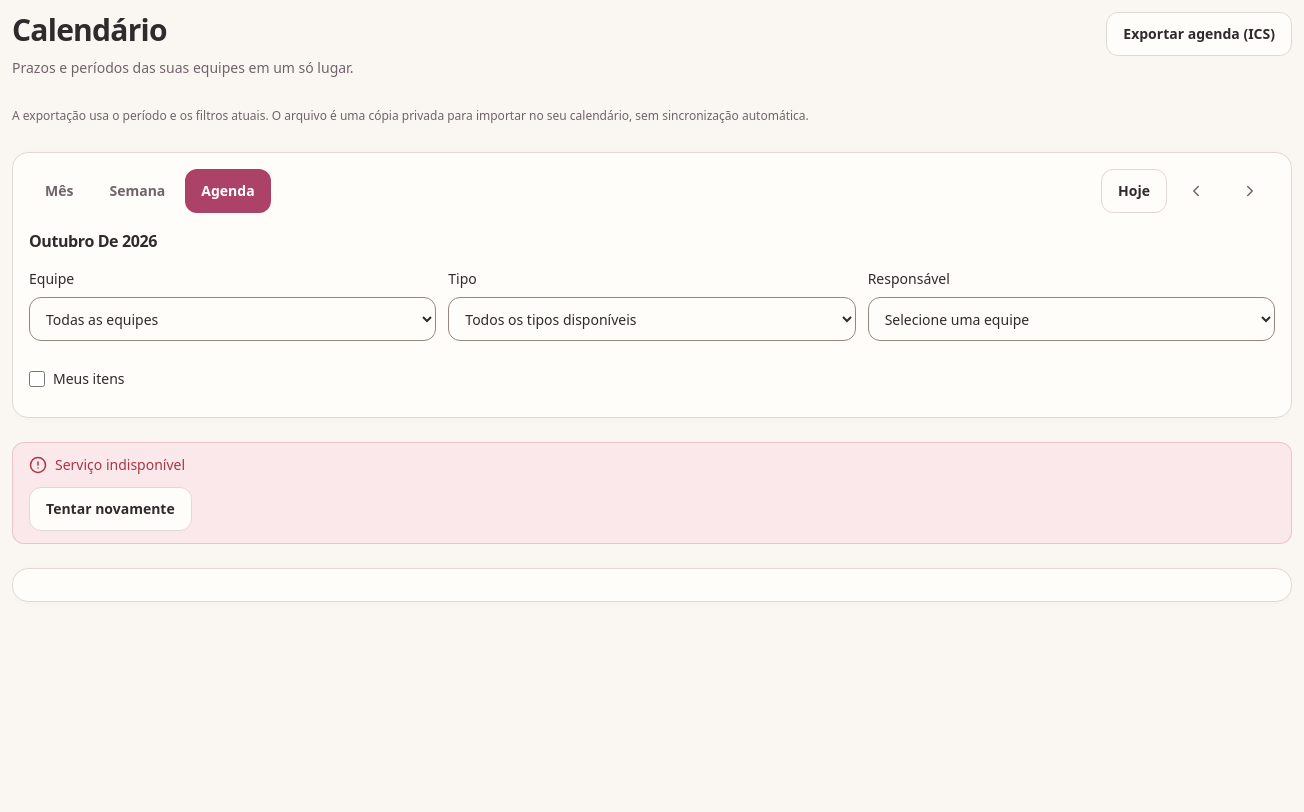
Test: erro seguro preserva controles e permite retry
The width and height of the screenshot is (1304, 812).
expect the message "Serviço indisponível Tentar novamente" is shown: met, box left=12, top=442, right=1292, bottom=544
Click the button "Tentar novamente" at (110, 509), box left=29, top=487, right=192, bottom=531
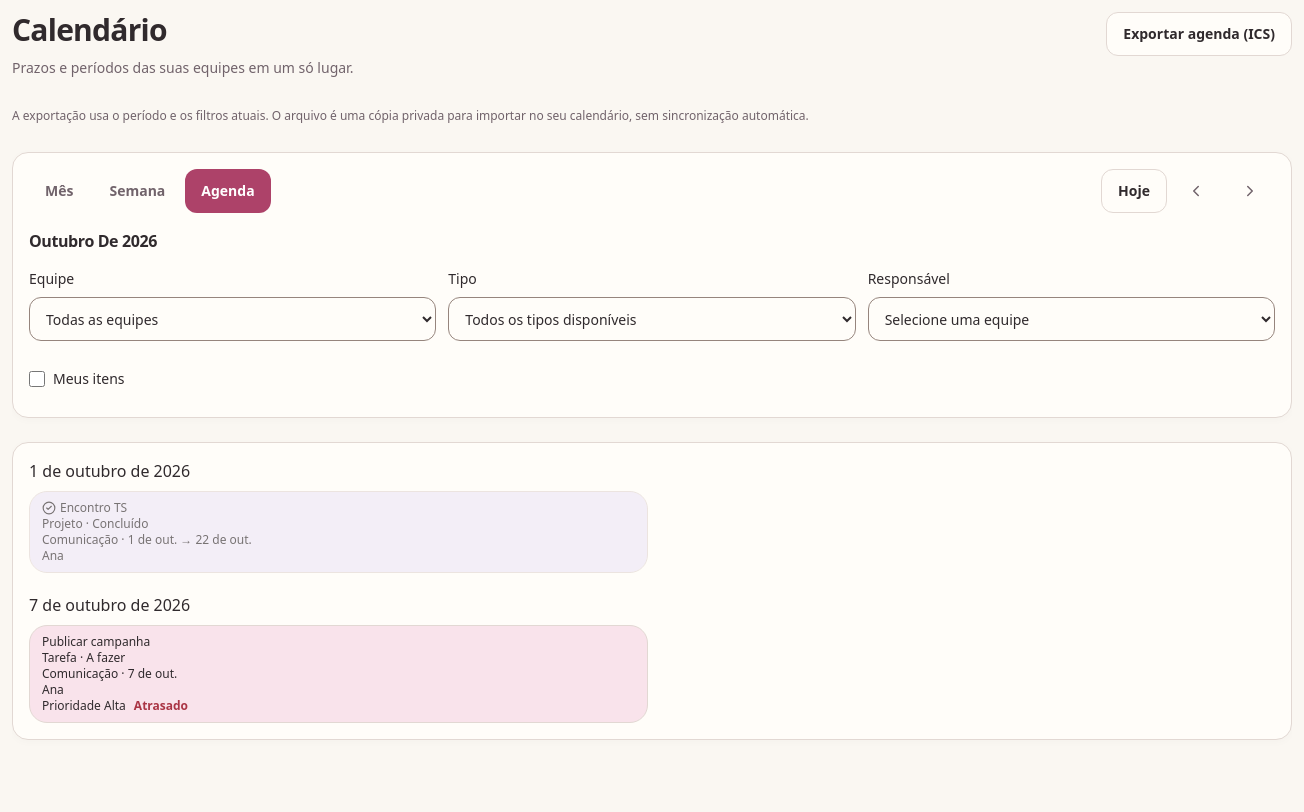
expect the button with aria-label "Abrir tarefa Publicar campanha" is shown: met, box left=29, top=625, right=648, bottom=723
